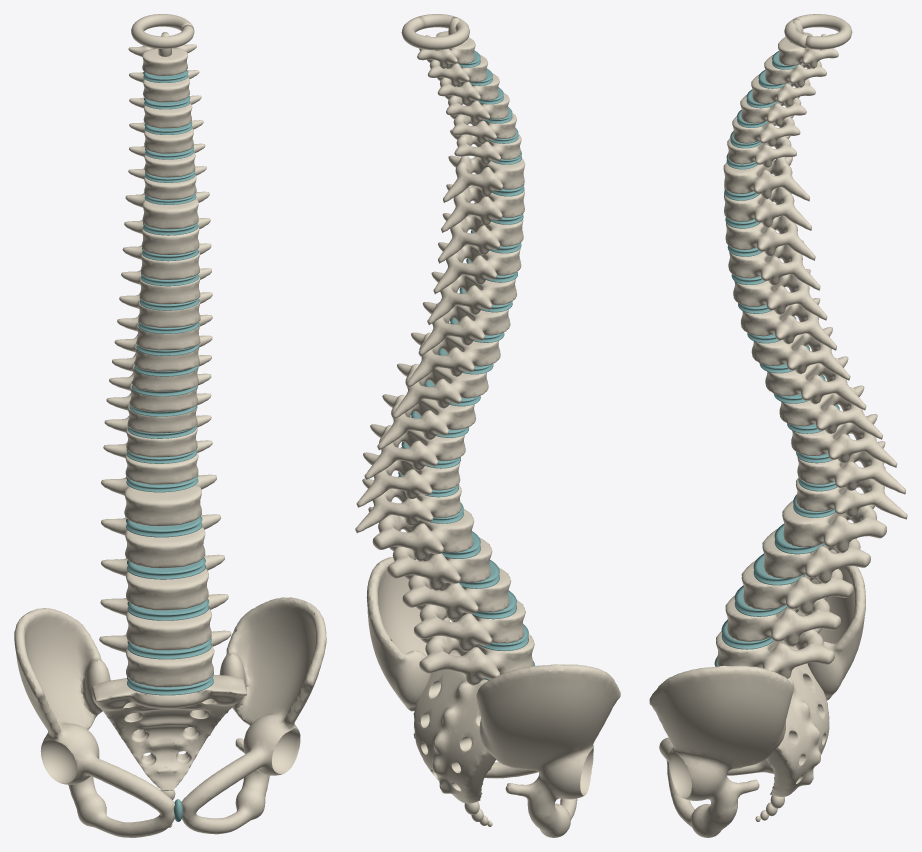
Rendered from cardie-spine.glb.
The picture shows the model from 3 angles, left to right: view 1: azimuth 30°, elevation 25°; view 2: azimuth 150°, elevation 25°; view 3: azimuth 270°, elevation 25°; orthographic projection. The views are drawn at different scales.
Visible parts, largest first — view 1: Pelvis_Right, Pelvis_Left, Sacrum, Lumbar_4, Lumbar_1, Lumbar_3, Lumbar_5, Lumbar_2, Thoracic_12, Thoracic_11, Thoracic_1, Thoracic_10 (+21 smaller); view 2: Pelvis_Left, Sacrum, Pelvis_Right, Lumbar_5, Lumbar_4, Lumbar_1, Lumbar_3, Lumbar_2, Thoracic_9, Thoracic_10, Thoracic_8, Thoracic_11 (+15 smaller); view 3: Pelvis_Right, Sacrum, Pelvis_Left, Lumbar_1, Lumbar_4, Lumbar_5, Lumbar_3, Lumbar_2, Thoracic_10, Thoracic_9, Thoracic_11, Thoracic_8 (+19 smaller).
Part boxes in pixels (bbox=[...]): Pelvis_Right: bbox=[181, 597, 326, 834]; Pelvis_Left: bbox=[14, 608, 174, 837]; Sacrum: bbox=[92, 675, 246, 790]; Lumbar_4: bbox=[100, 594, 228, 650]; Lumbar_1: bbox=[101, 474, 216, 525]; Lumbar_3: bbox=[101, 554, 224, 610]; Lumbar_5: bbox=[99, 630, 231, 687]; Lumbar_2: bbox=[101, 514, 220, 568]; Thoracic_12: bbox=[103, 440, 212, 484]; Thoracic_11: bbox=[104, 415, 211, 457]; Thoracic_1: bbox=[125, 191, 209, 229]; Thoracic_10: bbox=[106, 393, 211, 433]; Pelvis_Left: bbox=[476, 664, 620, 837]; Sacrum: bbox=[413, 650, 496, 803]; Pelvis_Right: bbox=[366, 557, 538, 778]; Lumbar_5: bbox=[419, 634, 534, 685]; Lumbar_4: bbox=[413, 600, 525, 651]; Lumbar_1: bbox=[368, 507, 474, 561]; Lumbar_3: bbox=[402, 567, 511, 620]; Lumbar_2: bbox=[387, 537, 492, 590]; Thoracic_9: bbox=[377, 385, 475, 450]; Thoracic_10: bbox=[364, 416, 465, 479]; Thoracic_8: bbox=[392, 353, 488, 419]; Thoracic_11: bbox=[356, 446, 460, 507]; Pelvis_Right: bbox=[649, 665, 793, 837]; Sacrum: bbox=[766, 646, 829, 796]; Pelvis_Left: bbox=[727, 550, 865, 775]; Lumbar_1: bbox=[782, 500, 886, 553]; Lumbar_4: bbox=[725, 595, 840, 646]; Lumbar_5: bbox=[716, 628, 834, 678]; Lumbar_3: bbox=[741, 560, 853, 614]; Lumbar_2: bbox=[762, 529, 870, 583]; Thoracic_10: bbox=[791, 410, 897, 467]; Thoracic_9: bbox=[779, 380, 882, 439]; Thoracic_11: bbox=[797, 441, 905, 494]; Thoracic_8: bbox=[765, 350, 866, 410].
Bounding box in the file's own units: 5.16 × 14.85 × 4.29.
